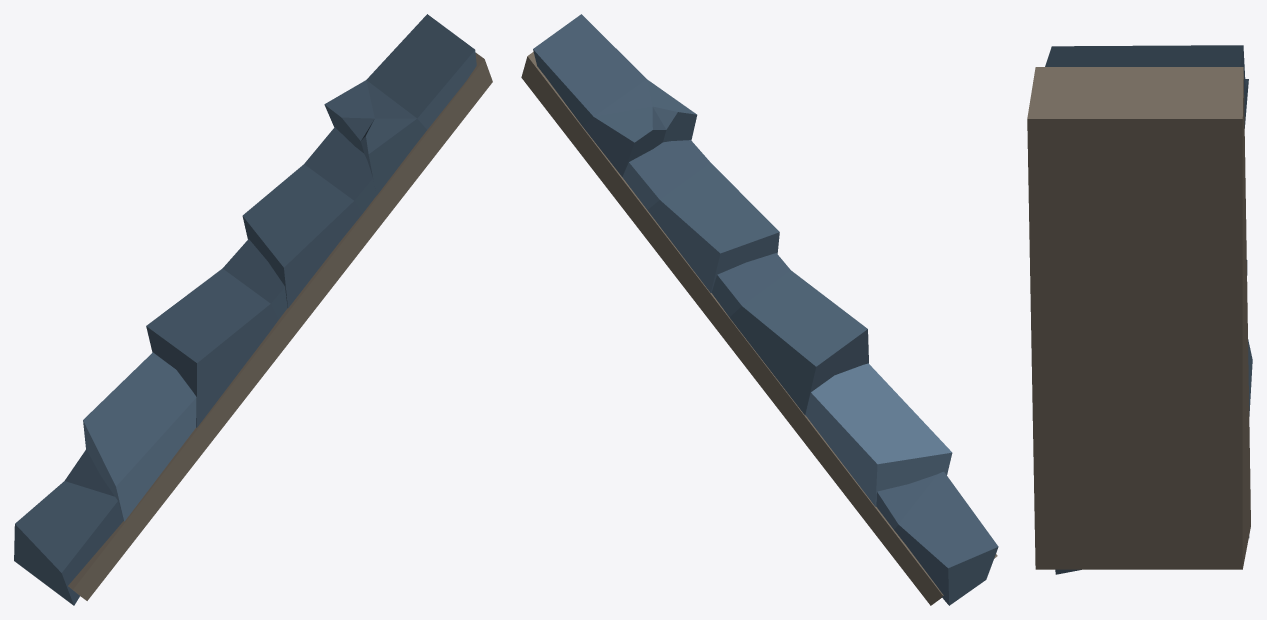
File: _rOOF_TILE_SIDE_01_1.fbx
The picture shows the model from 3 angles, left to right: view 1: azimuth 30°, elevation 25°; view 2: azimuth 150°, elevation 25°; view 3: azimuth 270°, elevation 25°; orthographic projection. The views are drawn at different scales.
Visible parts, largest first — view 1: rOOF_TILE_SIDE_01_1; view 2: rOOF_TILE_SIDE_01_1; view 3: rOOF_TILE_SIDE_01_1.
Boxes of the visible parts, bbox=[...] form: rOOF_TILE_SIDE_01_1: bbox=[14, 14, 492, 605]; rOOF_TILE_SIDE_01_1: bbox=[521, 14, 998, 605]; rOOF_TILE_SIDE_01_1: bbox=[1027, 45, 1252, 574].
Bounding box in the file's own units: 105 × 109 × 24.18.
